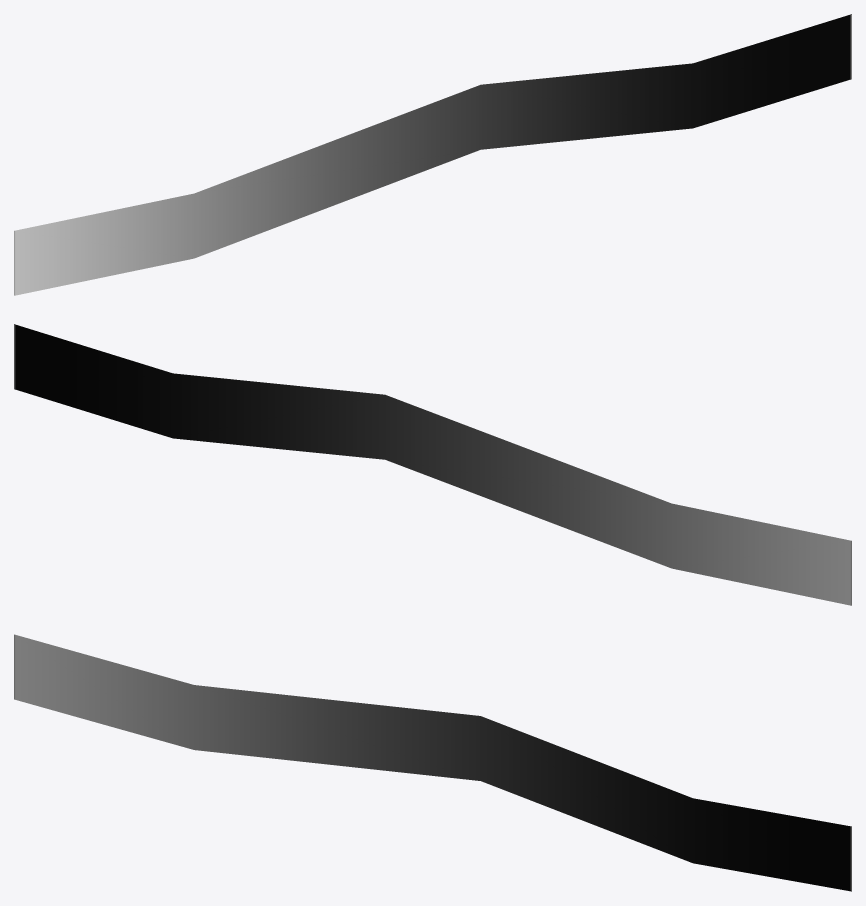
File: Lightning_01.fbx
3 renders of one model, top to bottom at view 1: azimuth 30°, elevation 25°; view 2: azimuth 150°, elevation 25°; view 3: azimuth 330°, elevation 25°, orthographic.
Visible parts, largest first — view 1: Plane; view 2: Plane; view 3: Plane.
Boxes of the visible parts, x1=… form: Plane: x1=14, y1=14, x2=851, y2=295; Plane: x1=14, y1=324, x2=851, y2=605; Plane: x1=14, y1=634, x2=851, y2=891.
Bounding box in the file's own units: 200 × 23.71 × 2.95e-05.
